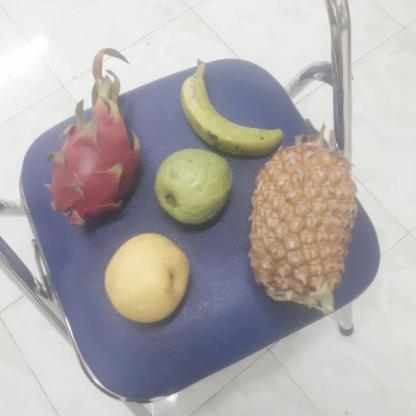banana: (182, 70, 282, 156)
guava: (155, 148, 234, 224)
pear: (102, 234, 195, 324)
pineapple: (250, 146, 366, 310)
pitaya: (52, 101, 146, 229)
